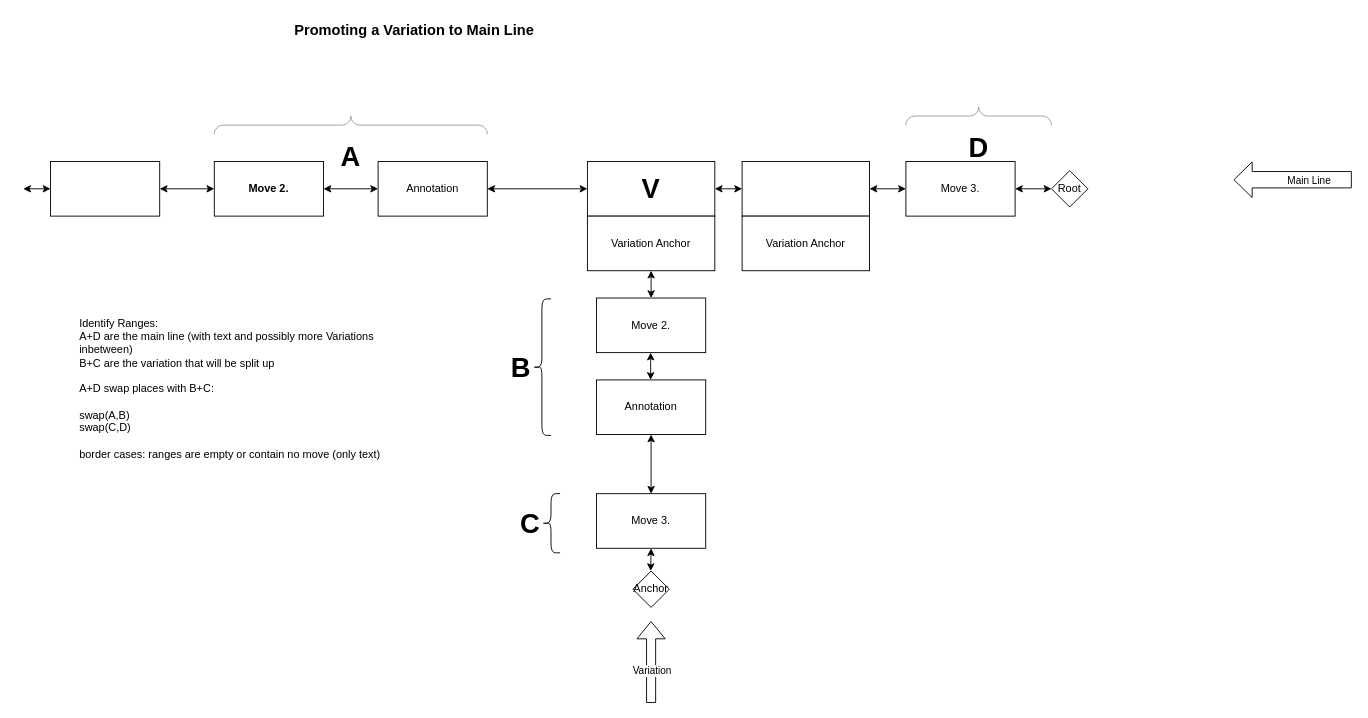
This 1368x718 diagram has some shape labels left out. Here are the shapes that lost their labels. From the top down, the centre of each, then its label:
At [105,188]: "Root Anchor".
At [805,188]: "Variation Node".
